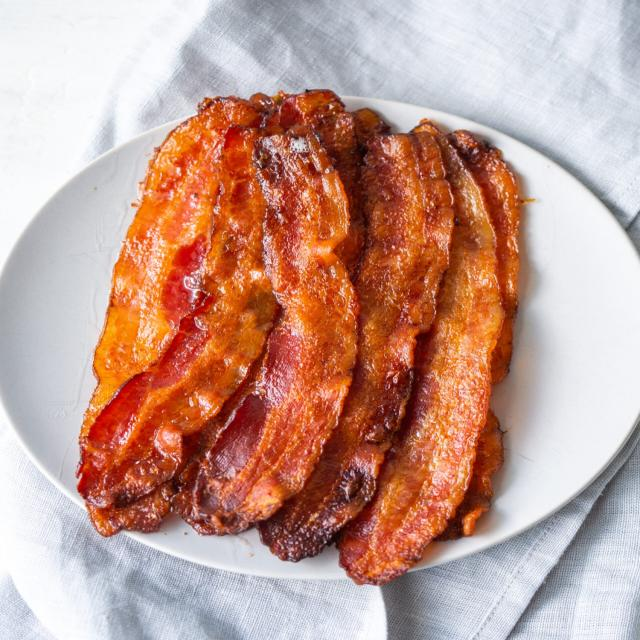Bacon: (258, 132, 453, 560), (78, 126, 278, 535), (173, 125, 358, 535), (337, 136, 503, 585), (83, 98, 260, 431)
